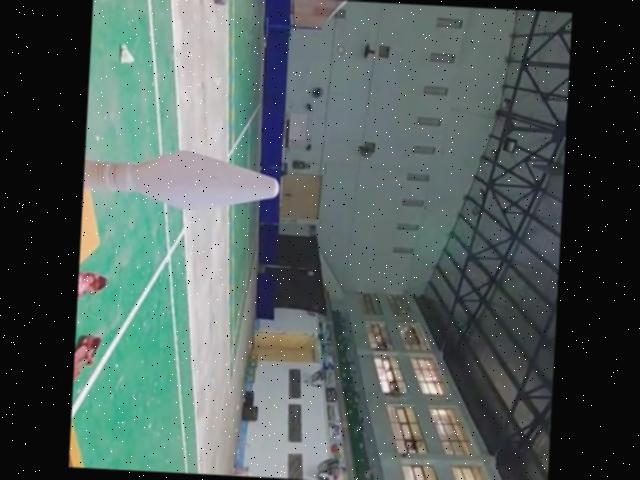Sph: (82, 142, 287, 217)
